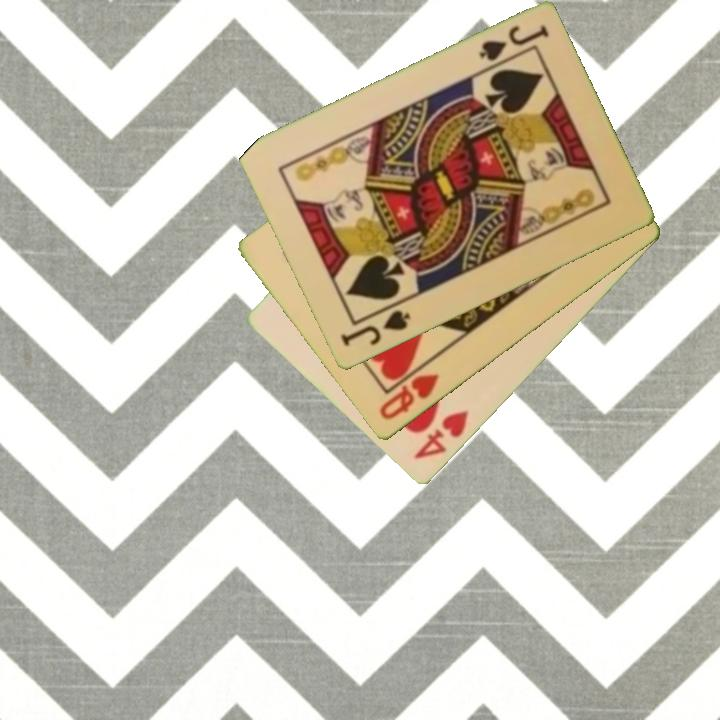4h: (410, 407, 472, 463)
Js: (475, 22, 552, 65), (337, 307, 413, 350)
Qh: (376, 371, 442, 424)
